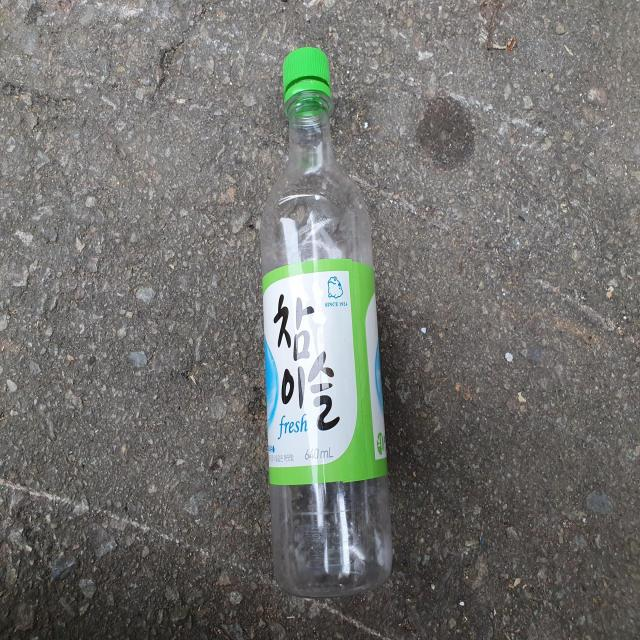plastic: (261, 46, 393, 598)
